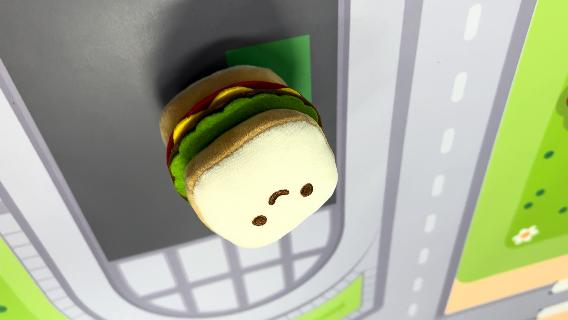sandwich: (157, 62, 341, 250)
